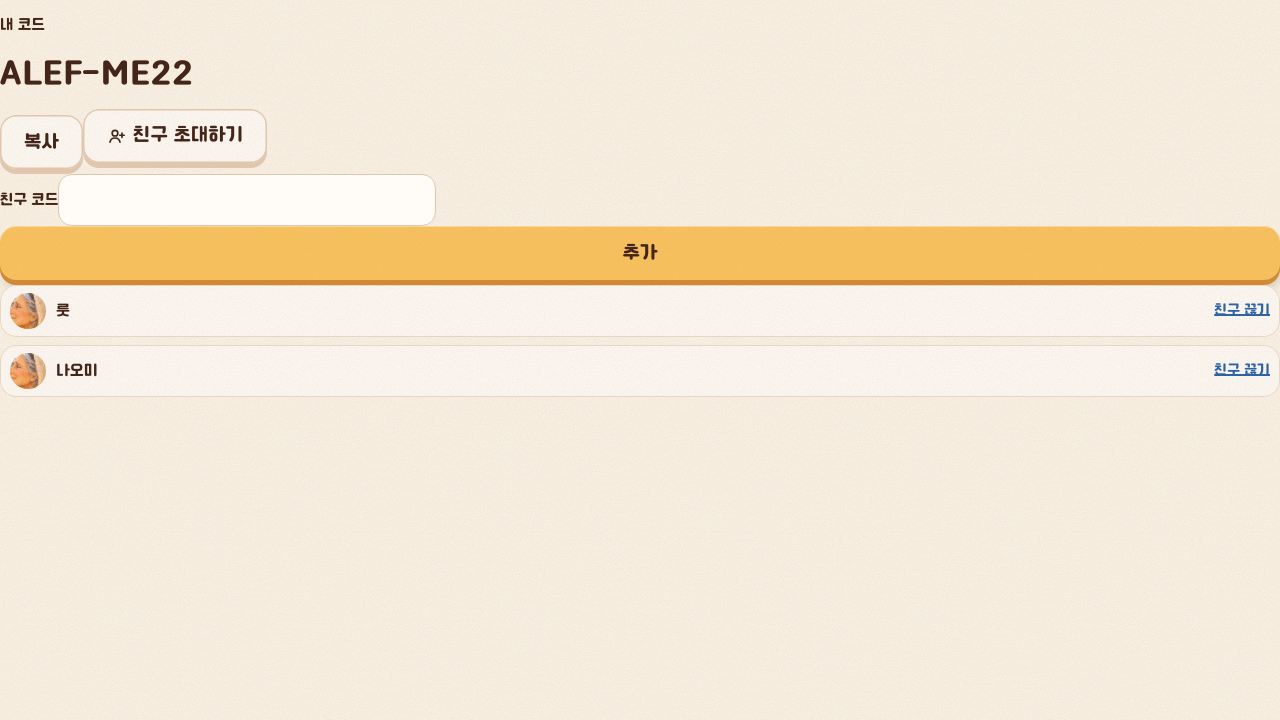
FriendsManager › error self -> message
The image size is (1280, 720).
Check: the text "룻" is shown, box [56,300,70,322]
Type "K7Q2" into the field labelled "친구 코드" at point(247, 200), box [58,174,436,226]
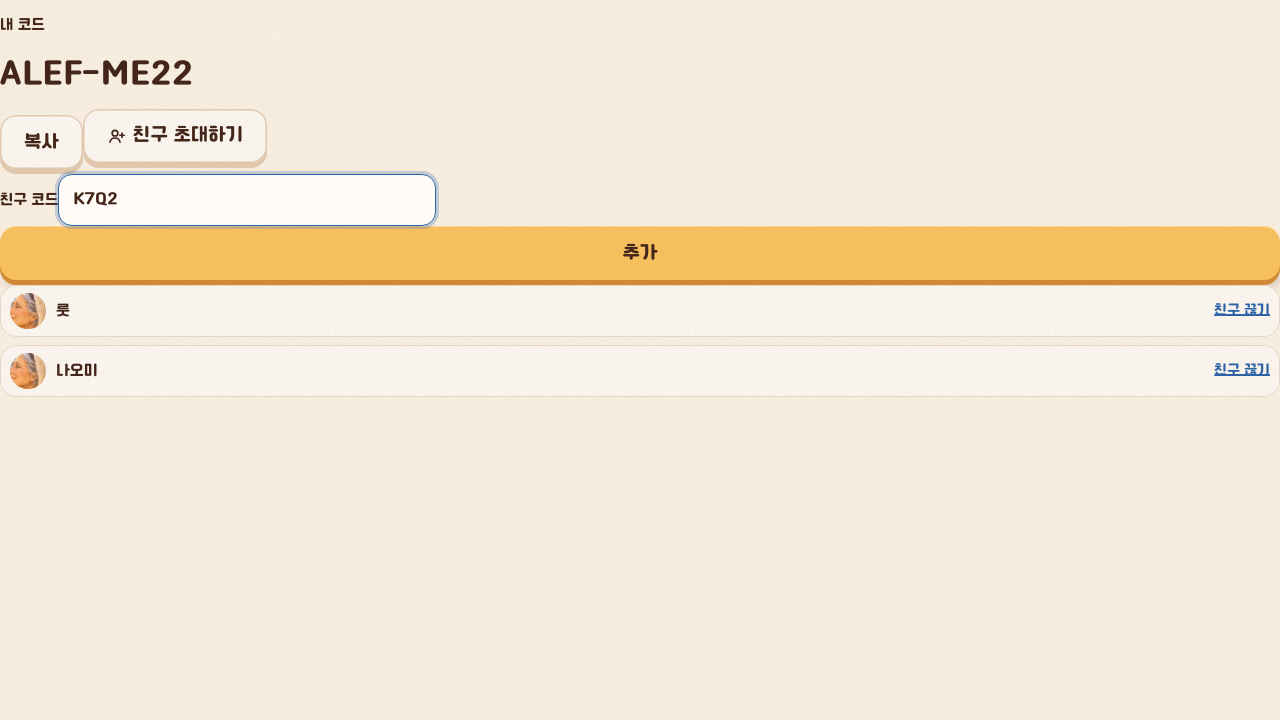
Click the button "추가" at point(640, 253), box [0,226,1279,280]
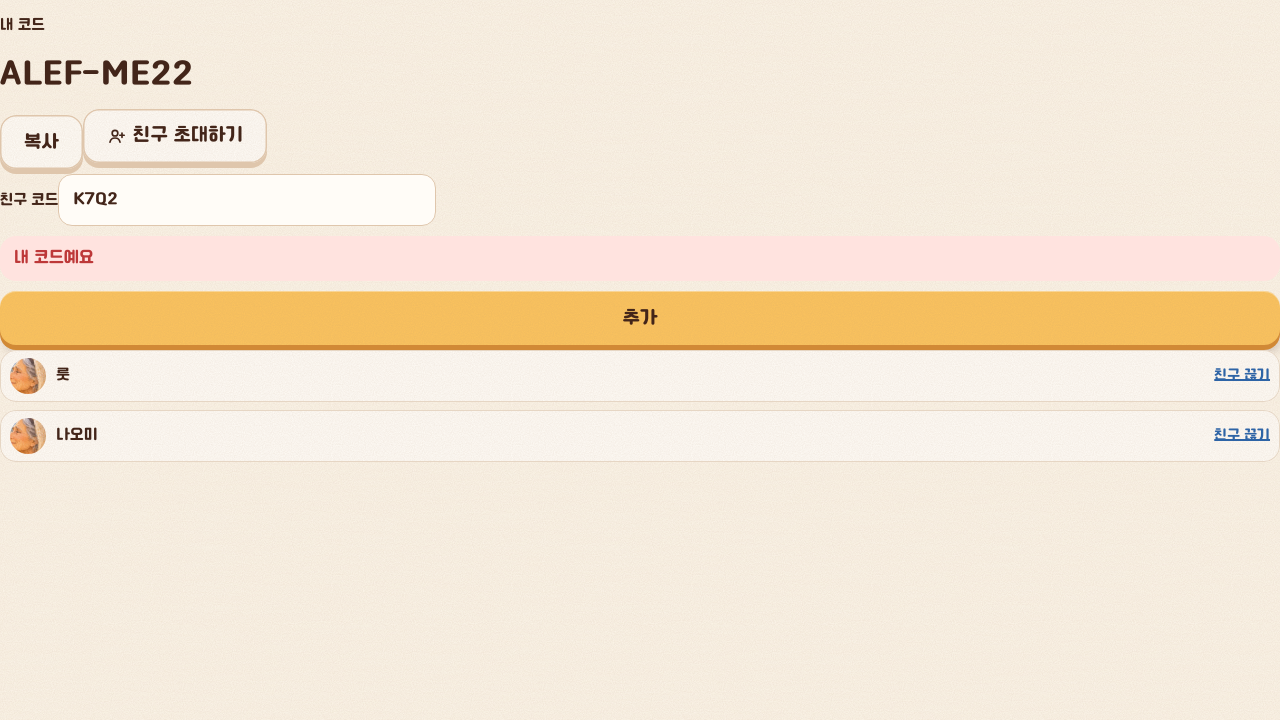
Check: the message reads "내 코드예요", box [14,248,94,267]
